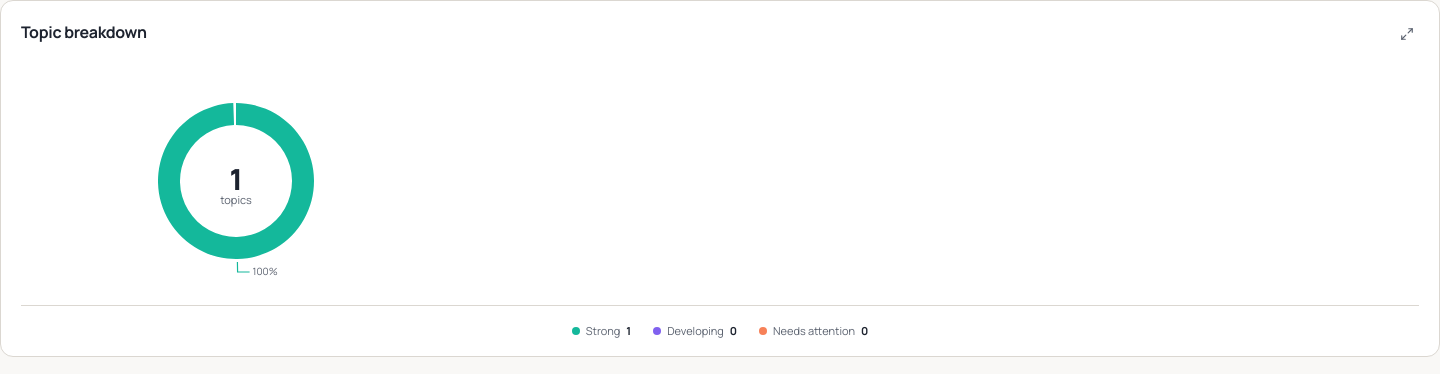
Test case: keeps zero-count categories usable without inventing topic evidence
Click the button with aria-label "Needs attention: 0 topics" at (814, 331), box [753,316,874,346]
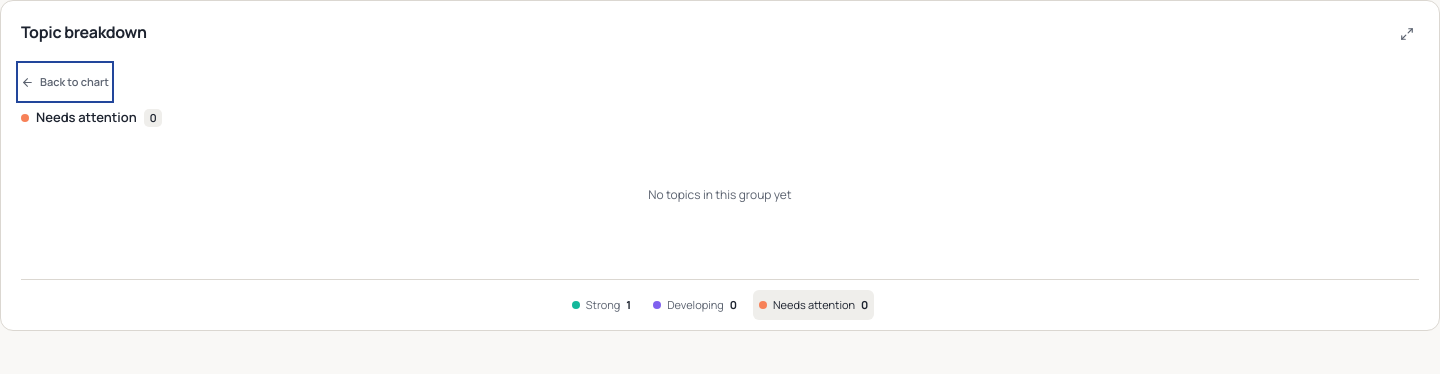
Expected: the element named "Needs attention topics" reads "No topics in this group yet", [648,186,792,202]
